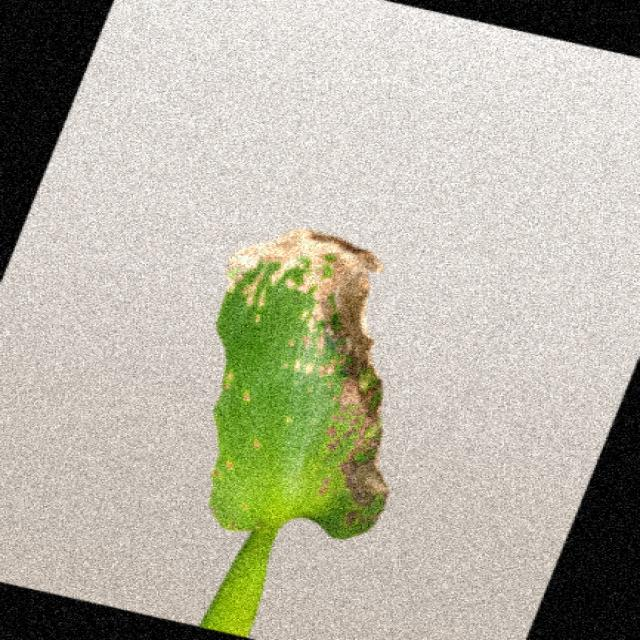daun berpenyakit bercak: (202, 229, 388, 636)
